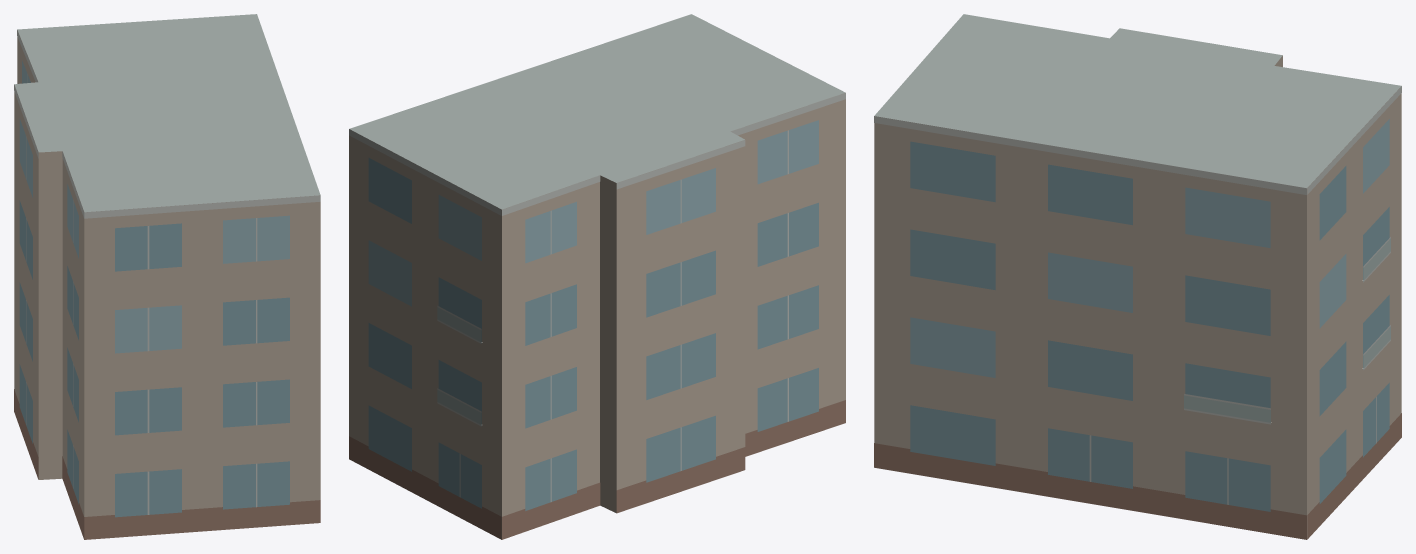
Rendered from survey-upis-33037473.glb.
The picture shows the model from 3 angles, left to right: view 1: azimuth 30°, elevation 25°; view 2: azimuth 150°, elevation 25°; view 3: azimuth 270°, elevation 25°; orthographic projection. The views are drawn at different scales.
Parts seen in each view (by area): view 1: survey-upis-33037473.tmp; view 2: survey-upis-33037473.tmp; view 3: survey-upis-33037473.tmp.
Boxes of the visible parts, x1=… form: survey-upis-33037473.tmp: x1=14, y1=14, x2=320, y2=539; survey-upis-33037473.tmp: x1=349, y1=14, x2=845, y2=539; survey-upis-33037473.tmp: x1=874, y1=14, x2=1401, y2=539.
Size of the model in its own units: 13.17 by 12.38 by 16.85.
